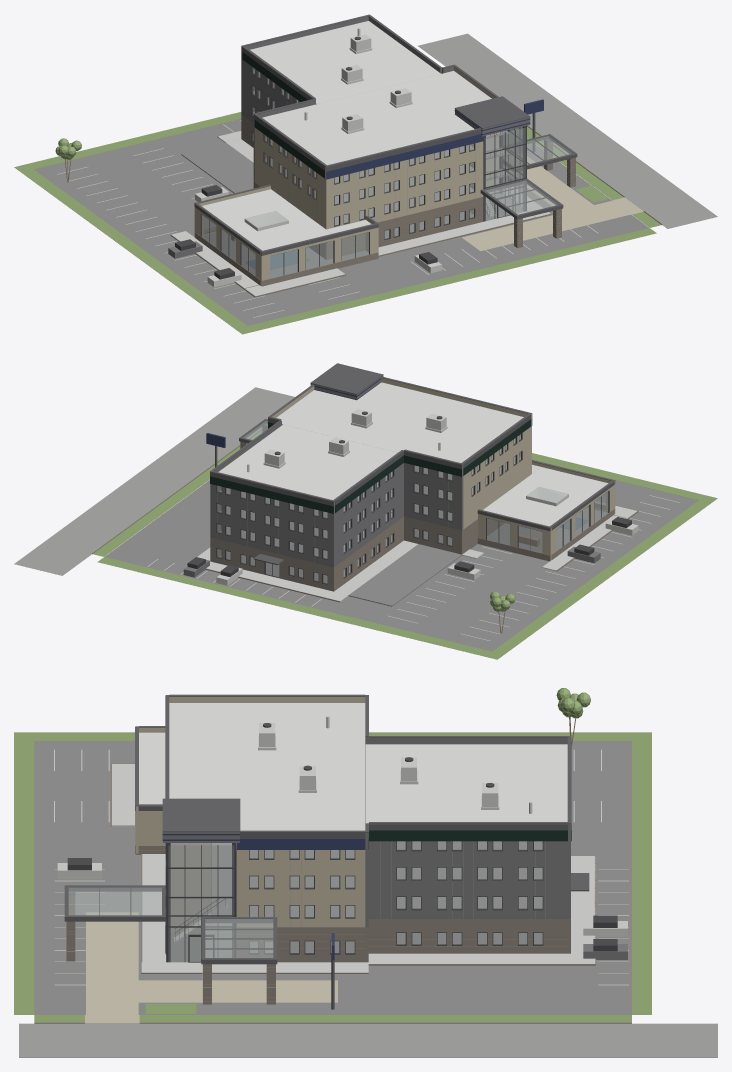
File: clay-limited-service-hotel-clay-v007.glb
3 views of the same model, one above another, from view 1: azimuth 30°, elevation 25°; view 2: azimuth 150°, elevation 25°; view 3: azimuth 270°, elevation 25° (orthographic). The views are drawn at different scales.
Visible parts, largest first — view 1: CLAY_FOUNDATION, CLAY_MEMBRANE, CLAY_FLOOR, CLAY_WALL, CLAY_GLASS, CLAY_PLANTING, CLAY_PALE, CLAY_CAP, CLAY_STONE, CLAY_TRIM, CLAY_SAND, CLAY_CHARCOAL (+3 smaller); view 2: CLAY_FOUNDATION, CLAY_MEMBRANE, CLAY_FLOOR, CLAY_CHARCOAL, CLAY_PLANTING, CLAY_STONE, CLAY_PALE, CLAY_WALL, CLAY_CAP, CLAY_GLASS, CLAY_TRIM, CLAY_BANDGREEN; view 3: CLAY_FOUNDATION, CLAY_MEMBRANE, CLAY_FLOOR, CLAY_PLANTING, CLAY_GLASS, CLAY_CHARCOAL, CLAY_PALE, CLAY_STONE, CLAY_CAP, CLAY_WALL, CLAY_SAND, CLAY_TRIM (+4 smaller).
Boxes of the visible parts, x1=… form: CLAY_FOUNDATION: x1=34, y1=119, x2=648, y2=325; CLAY_MEMBRANE: x1=202, y1=21, x2=491, y2=250; CLAY_FLOOR: x1=253, y1=33, x2=717, y2=228; CLAY_WALL: x1=194, y1=67, x2=496, y2=286; CLAY_GLASS: x1=202, y1=67, x2=572, y2=278; CLAY_PLANTING: x1=14, y1=112, x2=661, y2=334; CLAY_PALE: x1=57, y1=28, x2=598, y2=317; CLAY_CAP: x1=194, y1=14, x2=577, y2=255; CLAY_STONE: x1=170, y1=114, x2=662, y2=297; CLAY_TRIM: x1=175, y1=66, x2=558, y2=279; CLAY_SAND: x1=462, y1=153, x2=643, y2=251; CLAY_CHARCOAL: x1=168, y1=16, x2=530, y2=258; CLAY_FOUNDATION: x1=105, y1=460, x2=698, y2=651; CLAY_MEMBRANE: x1=218, y1=382, x2=608, y2=526; CLAY_FLOOR: x1=14, y1=387, x2=520, y2=575; CLAY_CHARCOAL: x1=183, y1=375, x2=600, y2=577; CLAY_PLANTING: x1=93, y1=430, x2=717, y2=659; CLAY_STONE: x1=92, y1=426, x2=638, y2=602; CLAY_PALE: x1=148, y1=409, x2=679, y2=640; CLAY_WALL: x1=272, y1=378, x2=615, y2=560; CLAY_CAP: x1=210, y1=363, x2=615, y2=565; CLAY_GLASS: x1=217, y1=421, x2=608, y2=583; CLAY_TRIM: x1=187, y1=433, x2=631, y2=584; CLAY_BANDGREEN: x1=210, y1=419, x2=531, y2=513; CLAY_FOUNDATION: x1=34, y1=741, x2=631, y2=1014; CLAY_MEMBRANE: x1=139, y1=703, x2=567, y2=830; CLAY_FLOOR: x1=19, y1=841, x2=717, y2=1057; CLAY_PLANTING: x1=14, y1=688, x2=651, y2=1022; CLAY_GLASS: x1=68, y1=841, x2=542, y2=962; CLAY_CHARCOAL: x1=163, y1=736, x2=627, y2=959; CLAY_PALE: x1=54, y1=716, x2=628, y2=985; CLAY_STONE: x1=34, y1=763, x2=631, y2=1023; CLAY_CAP: x1=64, y1=694, x2=589, y2=1009; CLAY_WALL: x1=135, y1=697, x2=365, y2=927; CLAY_SAND: x1=85, y1=912, x2=337, y2=1023; CLAY_TRIM: x1=67, y1=841, x2=617, y2=962.
Bounding box in the file's own units: 76 × 15.55 × 69.5.
